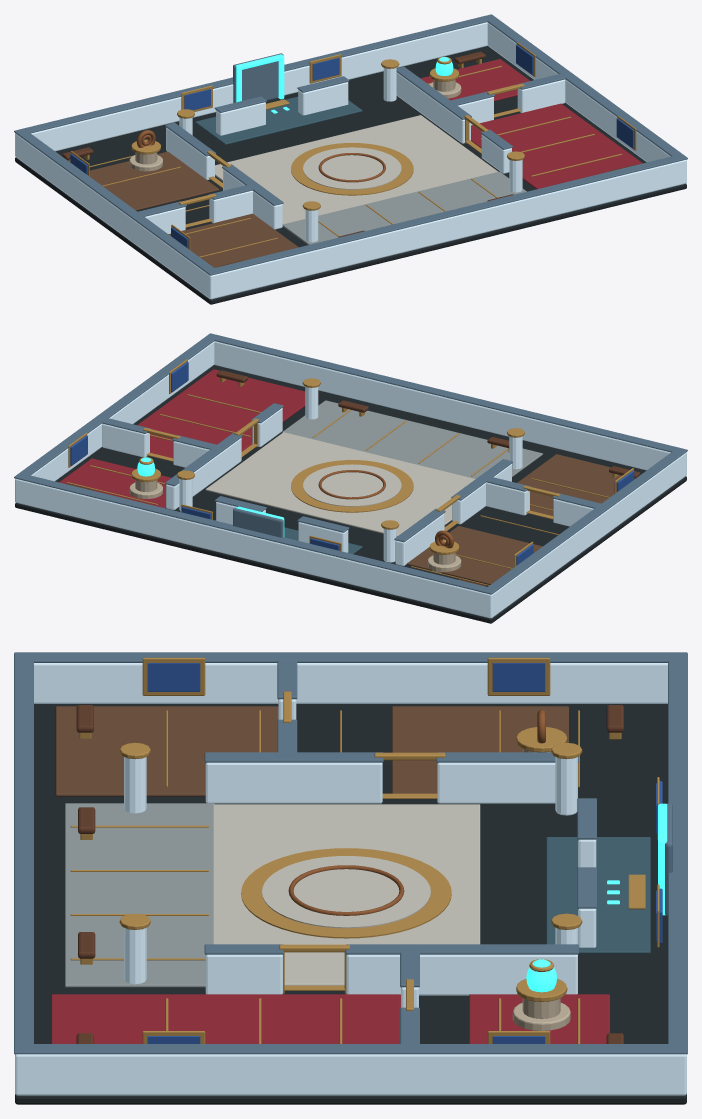
File: galleryShiftMuseumWorldCandidate.glb
3 views of the same model, one above another, from view 1: azimuth 30°, elevation 25°; view 2: azimuth 150°, elevation 25°; view 3: azimuth 270°, elevation 25° (orthographic). The views are drawn at different scales.
Parts seen in each view (by area): view 1: Museum_Limestone_Walls, Museum_Graphite_Wall_Caps, Museum_Shadow_Gap_Floor, Museum_Rotunda_Ivory_Marble, Museum_Treasury_Garnet_Carpet, Museum_Archive_Smoked_Oak, Museum_Aged_Brass_Wayfinding, Museum_Foyer_Terrazzo, Museum_Vault_Blue_Slate, Museum_Cobalt_Artwork, Museum_Exit_Jade_Light, Museum_Travertine_Plinths (+2 smaller); view 2: Museum_Limestone_Walls, Museum_Graphite_Wall_Caps, Museum_Shadow_Gap_Floor, Museum_Rotunda_Ivory_Marble, Museum_Treasury_Garnet_Carpet, Museum_Foyer_Terrazzo, Museum_Aged_Brass_Wayfinding, Museum_Archive_Smoked_Oak, Museum_Cobalt_Artwork, Museum_Travertine_Plinths, Museum_Walnut_Furniture, Museum_Museum_Bronze (+1 smaller); view 3: Museum_Limestone_Walls, Museum_Shadow_Gap_Floor, Museum_Graphite_Wall_Caps, Museum_Rotunda_Ivory_Marble, Museum_Archive_Smoked_Oak, Museum_Foyer_Terrazzo, Museum_Treasury_Garnet_Carpet, Museum_Aged_Brass_Wayfinding, Museum_Vault_Blue_Slate, Museum_Cobalt_Artwork, Museum_Walnut_Furniture, Museum_Exit_Jade_Light (+2 smaller).
Part boxes in pixels (box(x1,y1,x2,y2)): Museum_Limestone_Walls: box(15, 22, 686, 299); Museum_Graphite_Wall_Caps: box(14, 14, 687, 275); Museum_Shadow_Gap_Floor: box(15, 46, 686, 304); Museum_Rotunda_Ivory_Marble: box(215, 115, 497, 224); Museum_Treasury_Garnet_Carpet: box(420, 59, 642, 189); Museum_Archive_Smoked_Oak: box(89, 151, 298, 267); Museum_Aged_Brass_Wayfinding: box(67, 42, 636, 257); Museum_Foyer_Terrazzo: box(282, 171, 526, 244); Museum_Vault_Blue_Slate: box(195, 96, 362, 144); Museum_Cobalt_Artwork: box(70, 44, 634, 248); Museum_Exit_Jade_Light: box(236, 54, 453, 113); Museum_Travertine_Plinths: box(129, 79, 461, 171); Museum_Limestone_Walls: box(15, 341, 686, 618); Museum_Graphite_Wall_Caps: box(14, 333, 687, 594); Museum_Shadow_Gap_Floor: box(15, 365, 686, 623); Museum_Rotunda_Ivory_Marble: box(205, 432, 475, 536); Museum_Treasury_Garnet_Carpet: box(59, 369, 318, 508); Museum_Foyer_Terrazzo: box(282, 400, 542, 478); Museum_Aged_Brass_Wayfinding: box(67, 359, 634, 585); Museum_Archive_Smoked_Oak: box(407, 454, 621, 584); Museum_Cobalt_Artwork: box(70, 361, 634, 565); Museum_Travertine_Plinths: box(129, 480, 461, 572); Museum_Walnut_Furniture: box(66, 370, 640, 586); Museum_Museum_Bronze: box(318, 470, 453, 548); Museum_Limestone_Walls: box(15, 663, 686, 1095); Museum_Shadow_Gap_Floor: box(15, 704, 686, 1104); Museum_Graphite_Wall_Caps: box(14, 652, 687, 1054); Museum_Rotunda_Ivory_Marble: box(213, 804, 480, 985); Museum_Archive_Smoked_Oak: box(55, 706, 568, 796); Museum_Foyer_Terrazzo: box(65, 803, 214, 987); Museum_Treasury_Garnet_Carpet: box(51, 994, 609, 1043); Museum_Aged_Brass_Wayfinding: box(70, 657, 659, 1043); Museum_Vault_Blue_Slate: box(546, 837, 650, 953); Museum_Cobalt_Artwork: box(147, 663, 662, 1043); Museum_Walnut_Furniture: box(76, 705, 623, 1043); Museum_Exit_Jade_Light: box(526, 803, 667, 992).
Size of the model in its own units: 20.84 by 2.03 by 14.84.
